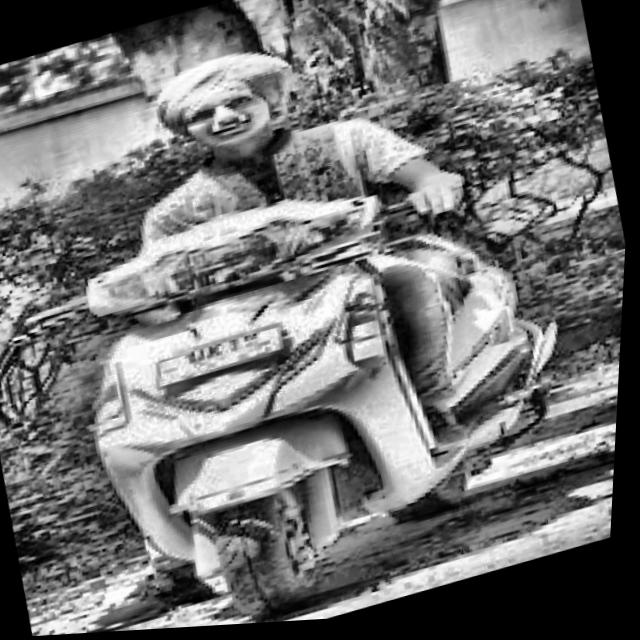motorcycle: (0, 132, 617, 639)
